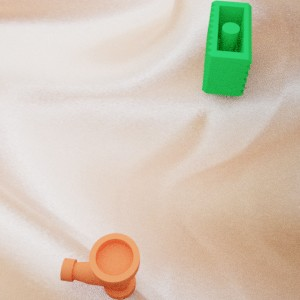lego: (60, 232, 140, 300), (201, 0, 252, 96)
